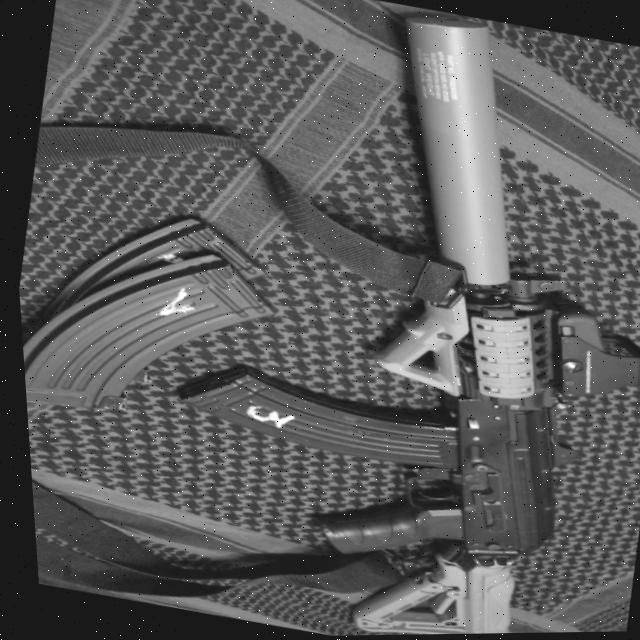firearm: (113, 0, 640, 639)
